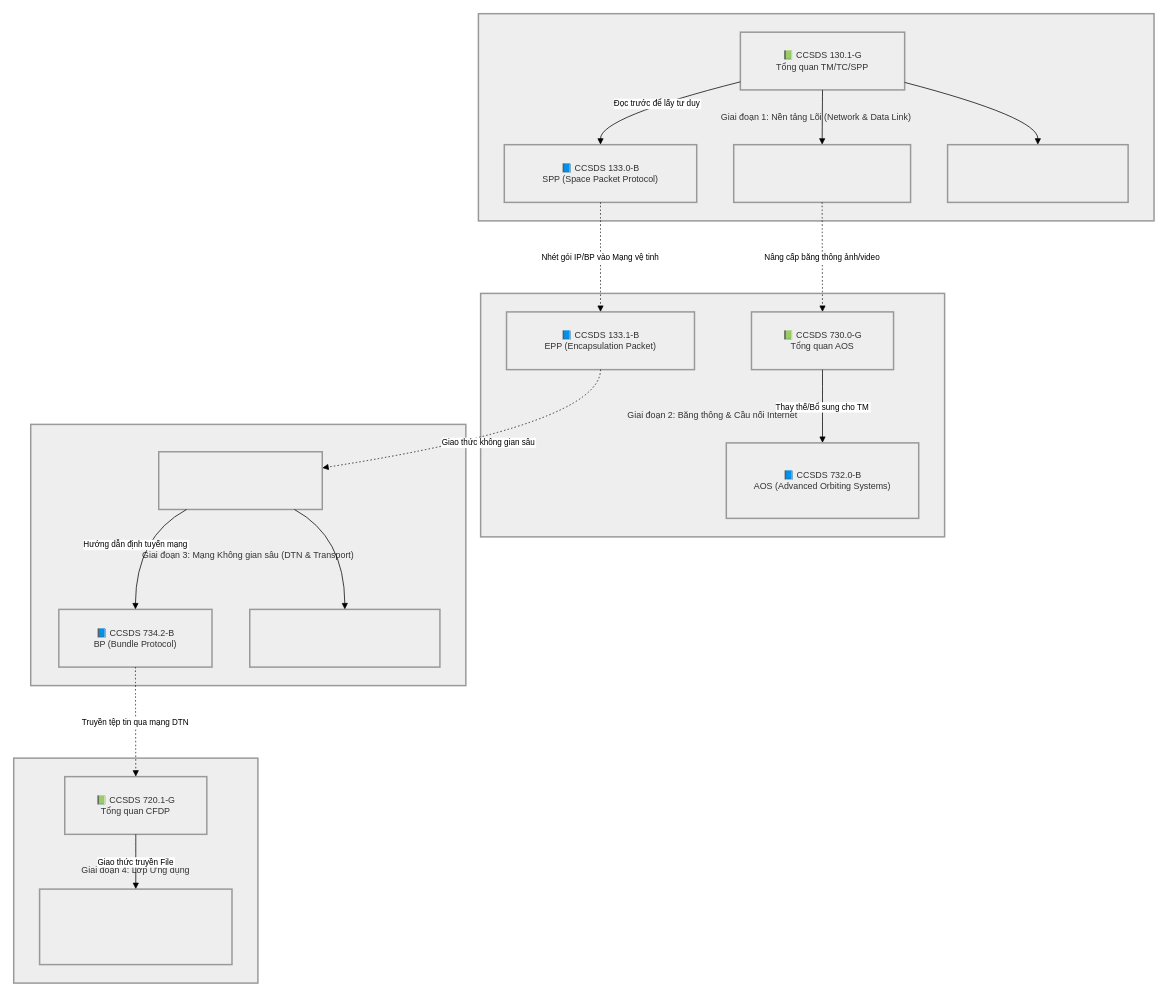
Image size: 1167x996. Some labels were removed from this diagram. Each missing label, with the centre of its shape:
"📗 CCSDS 713.0-G Space Internetworking" goes at pixel 240 480.
"📘 CCSDS 132.0-B TM (Telemetry Downlink)" goes at pixel 822 173.
"📘 CCSDS 232.0-B TC (Telecommand Uplink)" goes at pixel 1037 173.
"📘 CCSDS 727.0-B CFDP (File Delivery Protocol)" goes at pixel 135 926.
"📘 CCSDS 734.1-B LTP (Licklider Transmission)" goes at pixel 344 637.
